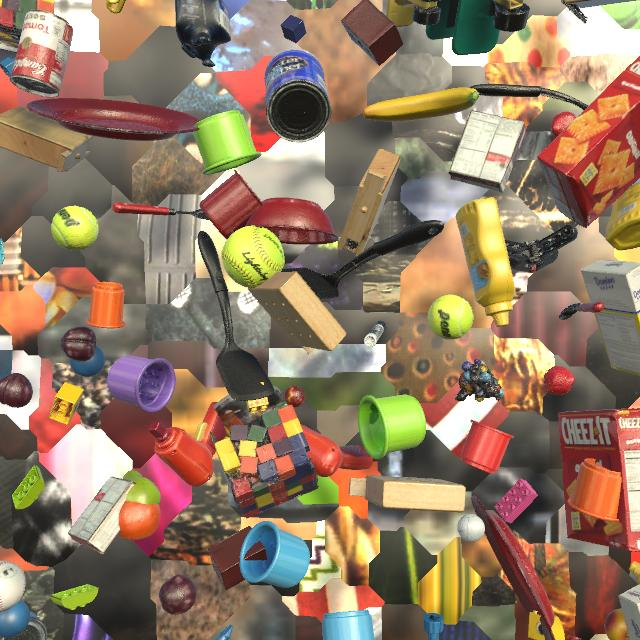ycb_002_master_chef_can: (264, 48, 331, 143)
ycb_003_cracker_box: (537, 56, 640, 228), (558, 408, 640, 552)
ycb_004_sugar_box: (581, 260, 640, 376), (619, 584, 640, 640)
ycb_005_tomato_soup_can: (10, 9, 73, 98)
ycb_006_mustard_bottle: (456, 197, 516, 327), (605, 178, 640, 250), (629, 561, 640, 584)
ycb_007_tuna_fish_can: (0, 611, 47, 640)
ycb_008_pudding_box: (449, 110, 526, 193), (68, 476, 136, 554)
ycb_011_banana: (363, 88, 479, 122)
ycb_012_strawberry: (543, 366, 575, 395), (551, 112, 576, 138)
ycb_015_peach: (605, 609, 630, 640)
ycb_016_pear: (123, 470, 161, 505)
ycb_017_orange: (118, 501, 161, 540)
ycb_018_plum: (159, 575, 196, 615), (60, 326, 96, 362), (0, 373, 33, 408)
